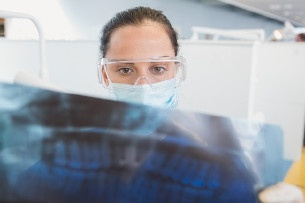Mask: (107, 56, 183, 133)
